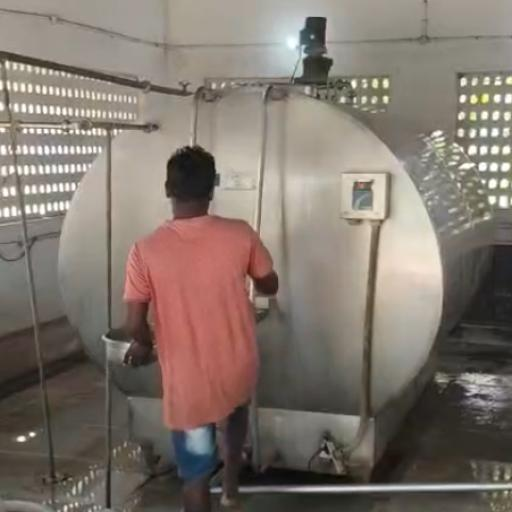silo: (56, 80, 495, 473)
vessel: (103, 329, 130, 367)
